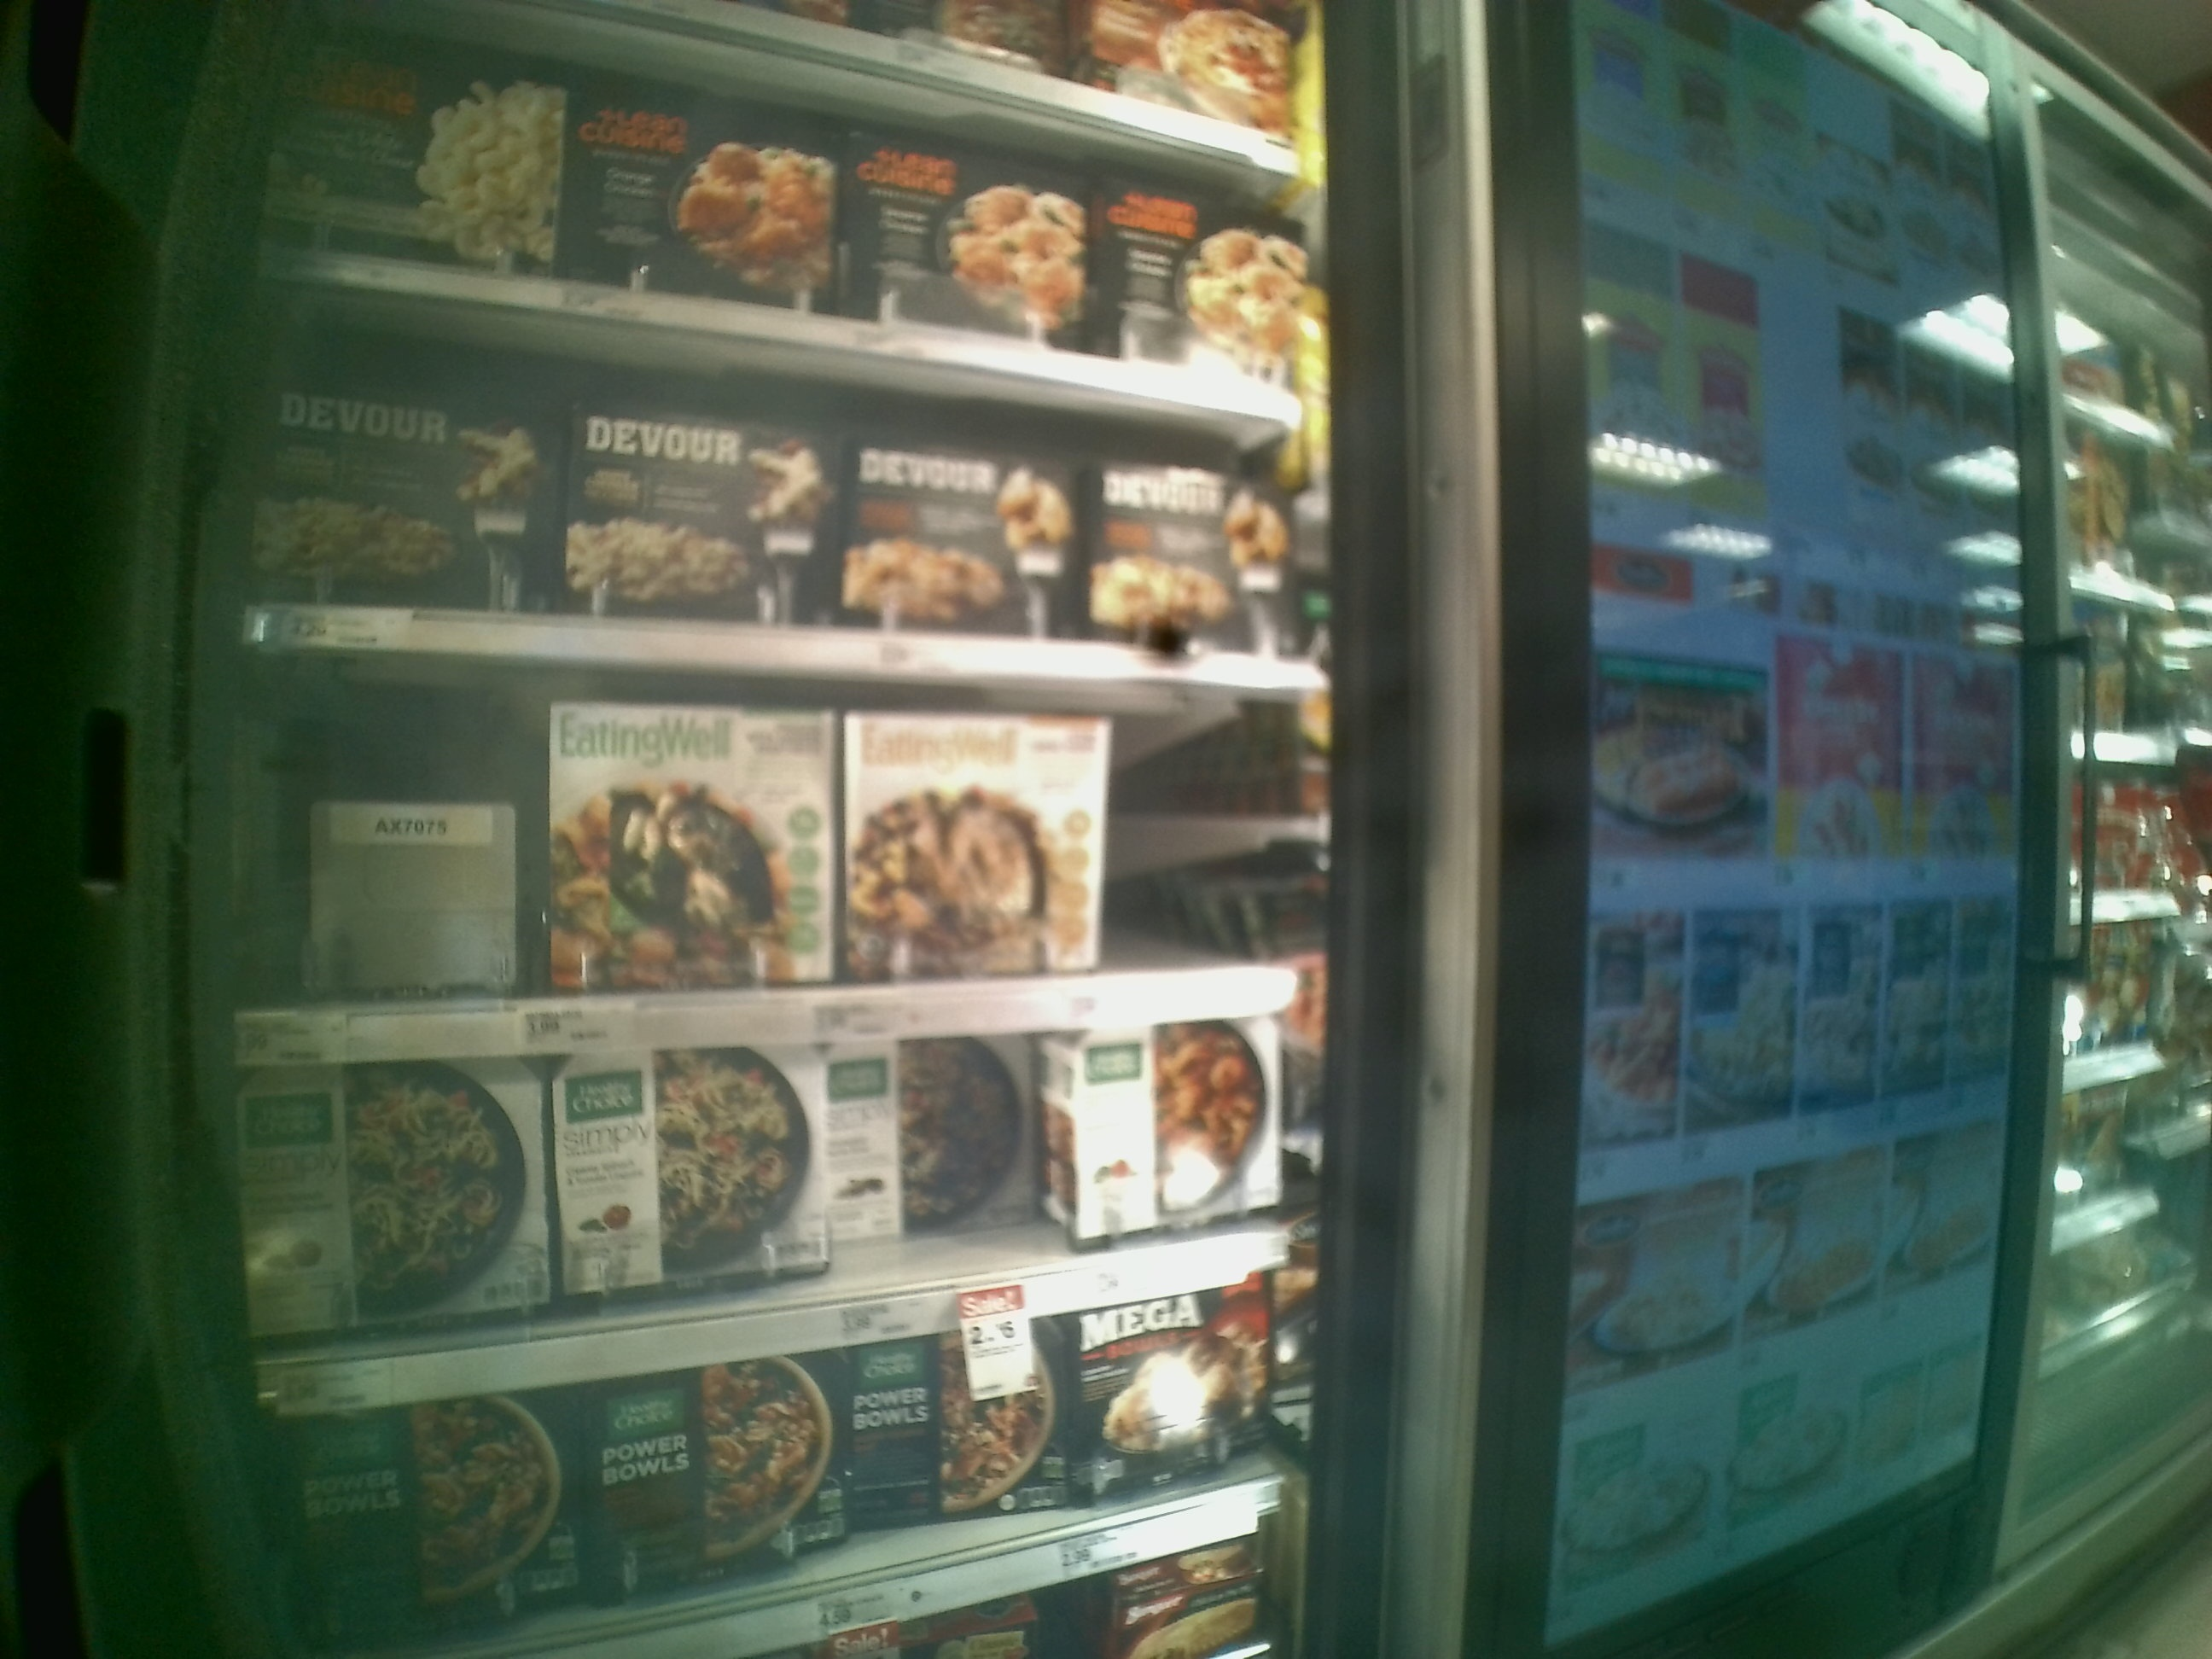shelf: (233, 990, 1339, 1419), (244, 653, 1334, 1079), (233, 275, 1332, 681)
